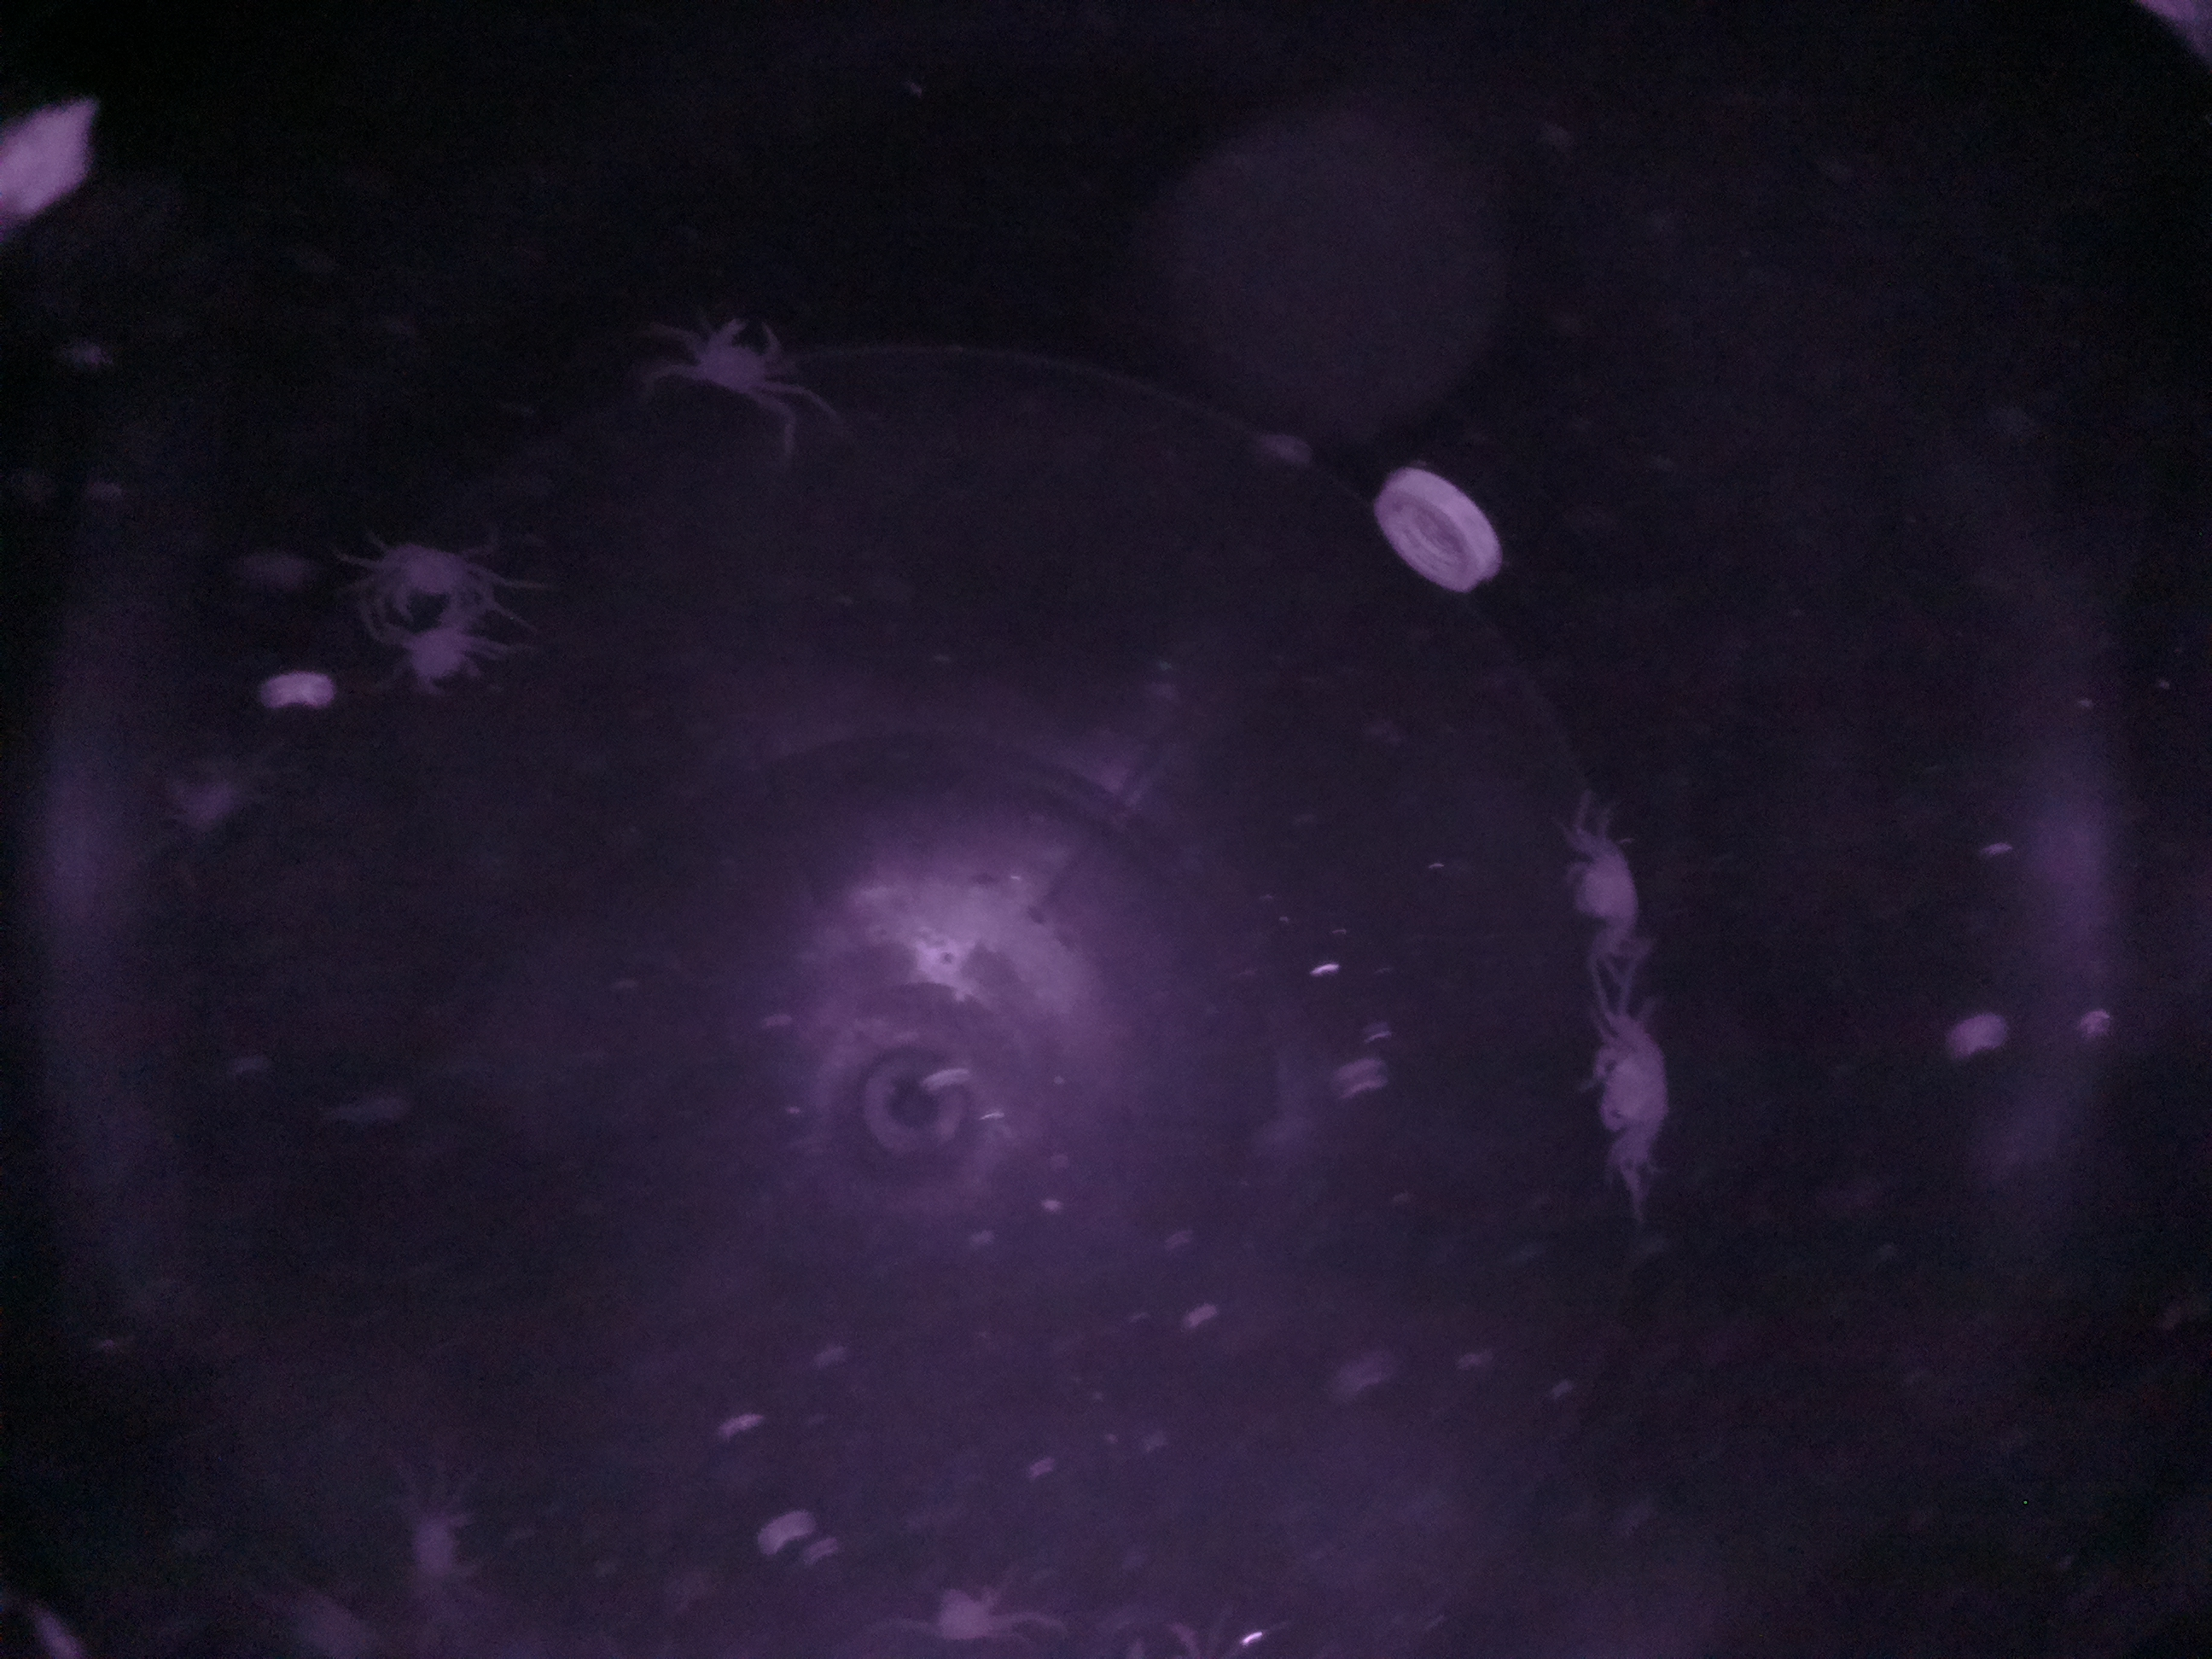Crab: (1578, 1011, 1686, 1161), (676, 301, 806, 415)
